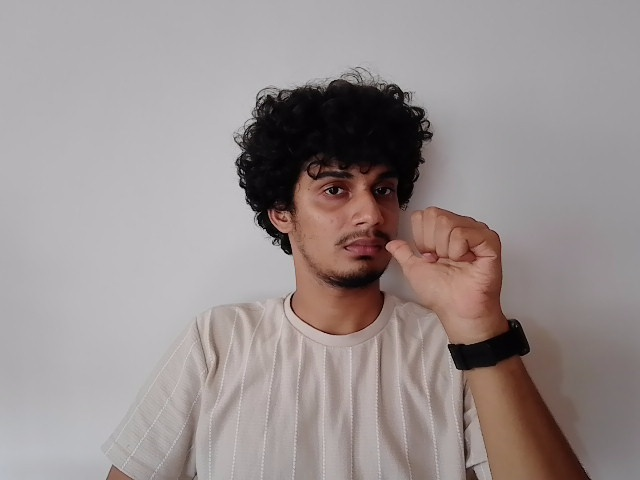drink: (256, 150, 515, 324)
